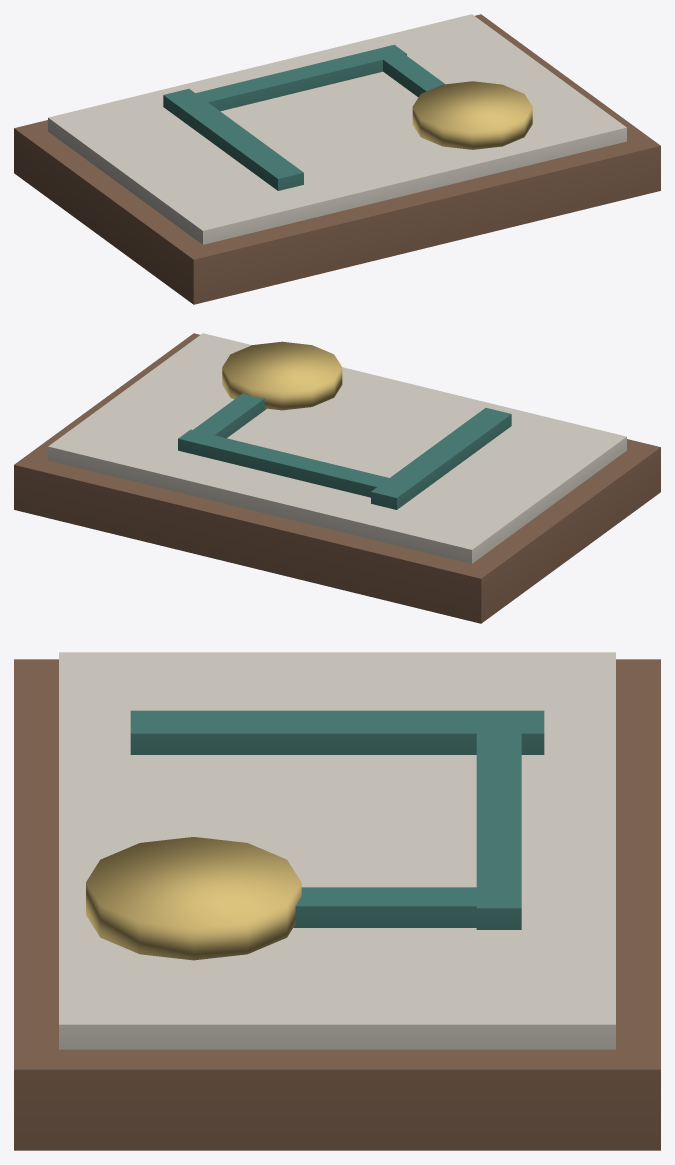
The model's file is prop-or-lantern-diagram.glb.
3 renders of one model, top to bottom at view 1: azimuth 30°, elevation 25°; view 2: azimuth 150°, elevation 25°; view 3: azimuth 270°, elevation 25°, orthographic. The views are drawn at different scales.
Visible parts, largest first — view 1: prop-or-lantern-diagram; view 2: prop-or-lantern-diagram; view 3: prop-or-lantern-diagram.
Part boxes in pixels (<box>): prop-or-lantern-diagram: <box>14,14,660,304</box>; prop-or-lantern-diagram: <box>14,333,660,623</box>; prop-or-lantern-diagram: <box>14,652,660,1150</box>.
Bounding box in the file's own units: 0.54 × 0.09 × 0.36.
